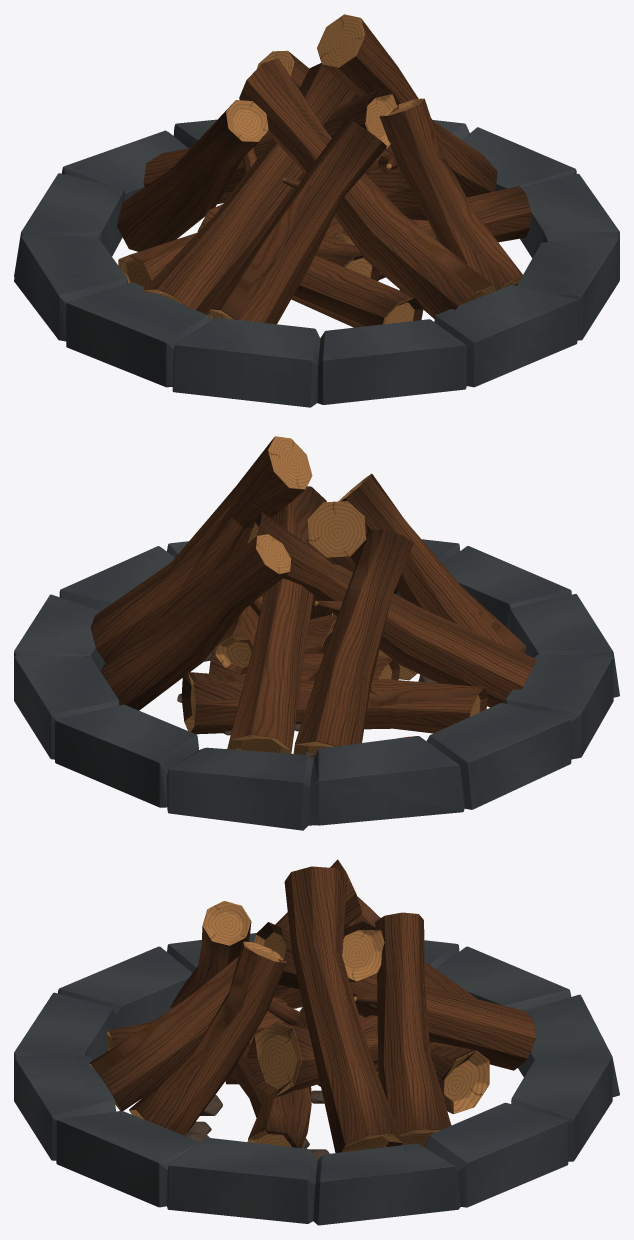
Rendered from fire_woods-HjKkSLPS.glb.
The picture shows the model from 3 angles, top to bottom: view 1: azimuth 30°, elevation 25°; view 2: azimuth 150°, elevation 25°; view 3: azimuth 270°, elevation 25°; orthographic projection.
Parts seen in each view (by area): view 1: Item17; view 2: Item17; view 3: Item17.
Boxes of the visible parts, left/top/right/bottom form: Item17: left=14, top=14, right=619, bottom=407; Item17: left=14, top=436, right=619, bottom=830; Item17: left=14, top=859, right=619, bottom=1225.
Size of the model in its own units: 0.6472 by 0.3118 by 0.6533.
Materials: 3 (1 with a texture image).
